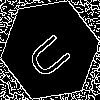U: (25, 25, 81, 83)
